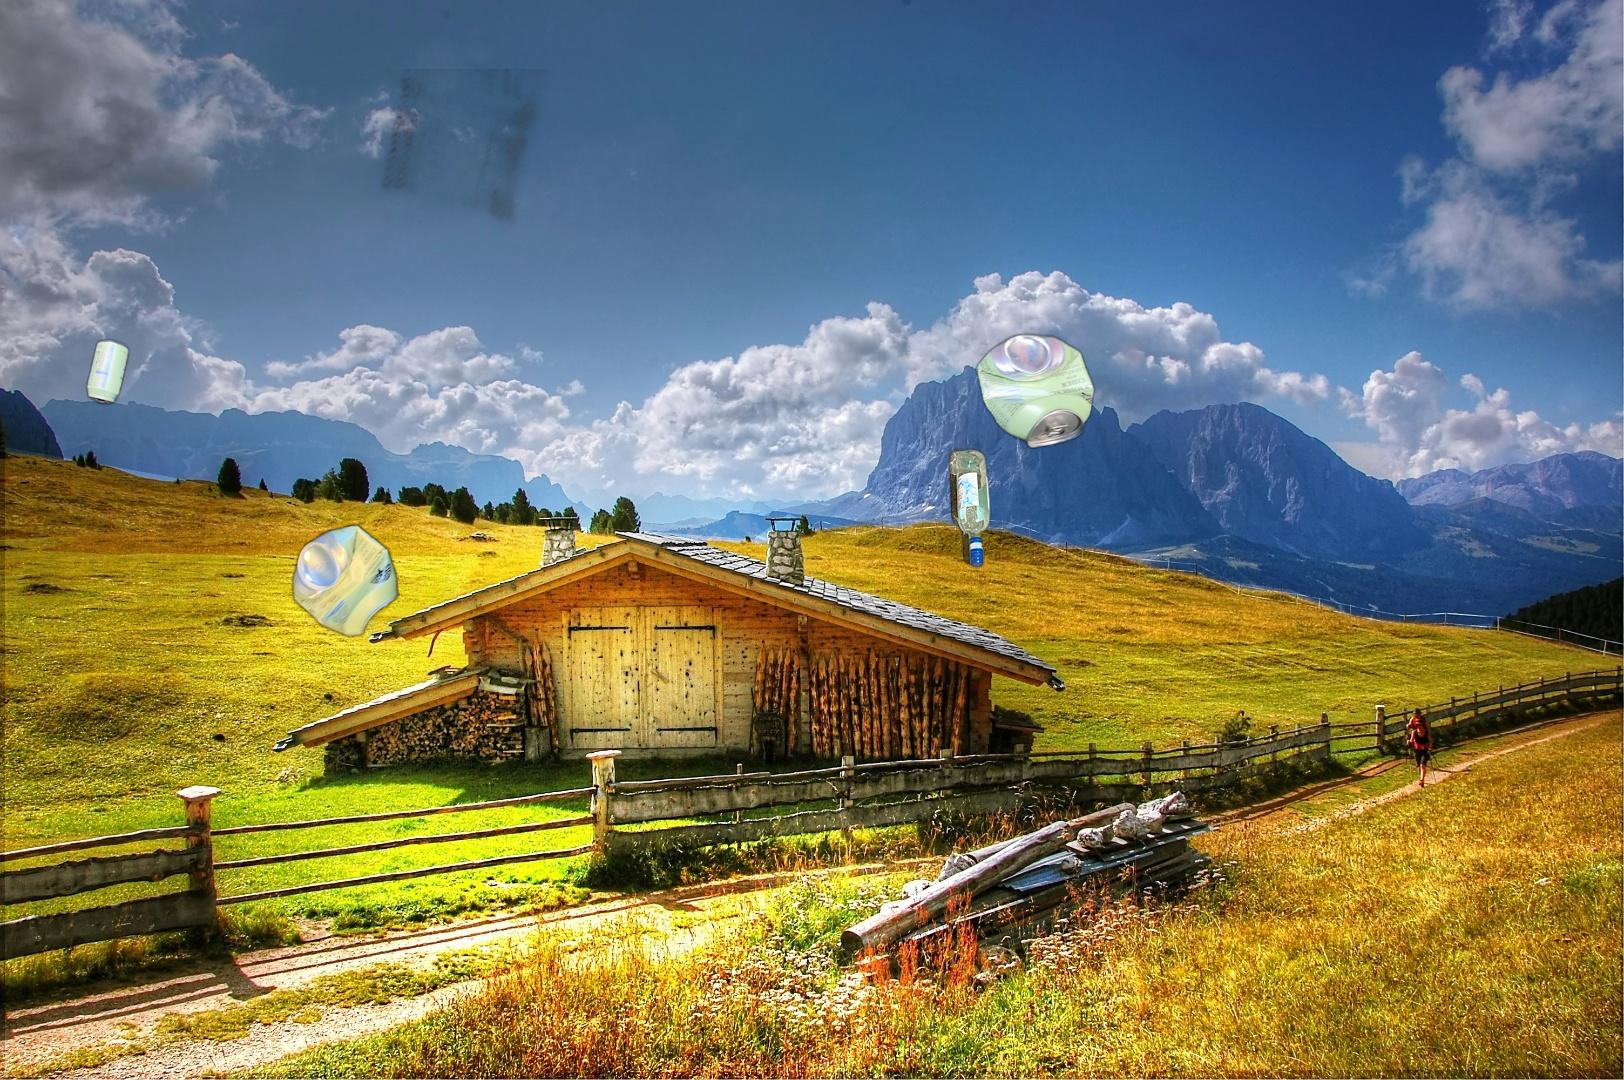glass: (945, 442, 995, 573)
metal-cans: (195, 69, 704, 643), (973, 328, 1098, 455), (83, 333, 133, 411)
